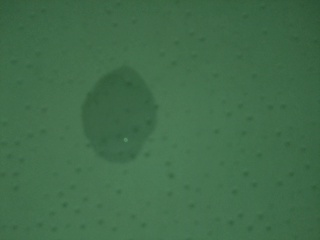Water_detected: (78, 76, 150, 158)
